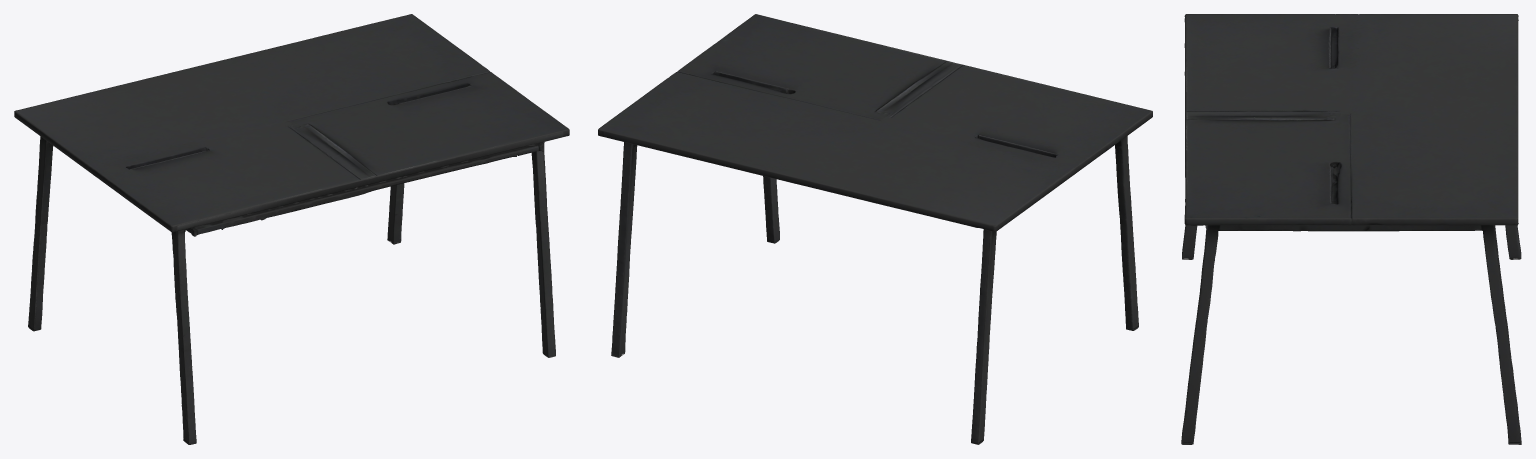
File: Black_Modern_Desk_0421143326_texture.glb
3 renders of one model, left to right at view 1: azimuth 30°, elevation 25°; view 2: azimuth 150°, elevation 25°; view 3: azimuth 270°, elevation 25°, orthographic. The views are drawn at different scales.
Size of the model in its own units: 2 by 1.07 by 1.4.
1 material, 1 textured.
